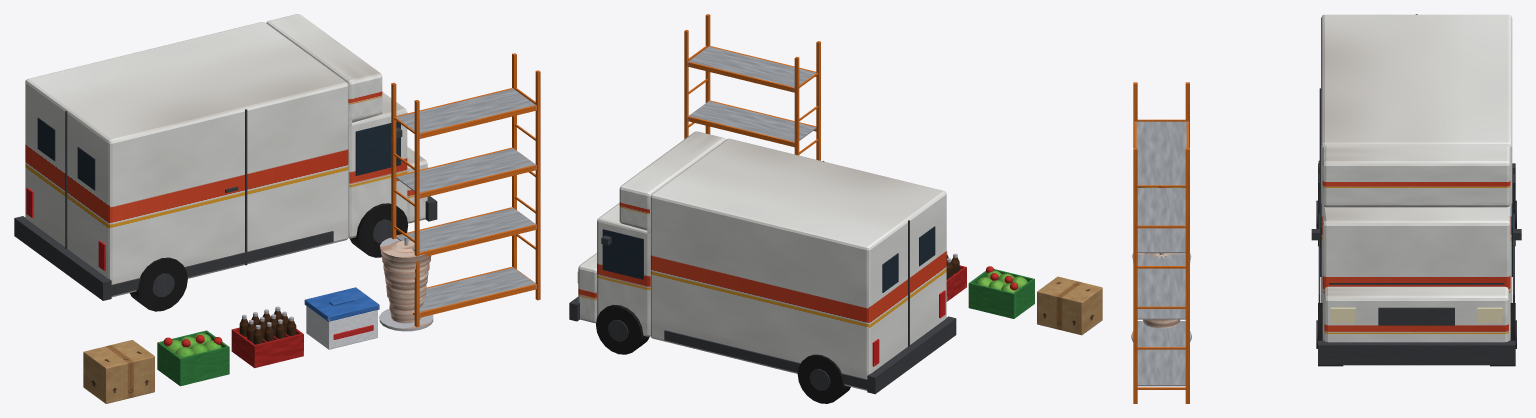
File: kebap_logistics.fbx
3 views of the same model, side by side, from view 1: azimuth 30°, elevation 25°; view 2: azimuth 150°, elevation 25°; view 3: azimuth 270°, elevation 25° (orthographic). The views are drawn at different scales.
Visible parts, largest first — view 1: Van_Body, Shelf, Van_Trim, Box_cardboard, Box_meat, MeatCone, Box_drink, Van_Tyres, Box_veg, Van_Glass; view 2: Van_Body, Shelf, Van_Trim, Box_cardboard, Van_Tyres, Van_Glass, Box_veg, Box_drink; view 3: Van_Body, Shelf, Van_Trim, Van_Lights, Van_Tyres, Van_Glass, MeatCone.
Part boxes in pixels (x1,y1,x2,y2): Van_Body: (25, 14, 427, 297); Shelf: (391, 53, 540, 327); Van_Trim: (14, 109, 437, 300); Box_cardboard: (83, 340, 154, 403); Box_meat: (304, 287, 379, 349); MeatCone: (379, 236, 433, 331); Box_drink: (231, 306, 303, 368); Van_Tyres: (129, 203, 408, 311); Box_veg: (157, 330, 229, 386); Van_Glass: (37, 117, 400, 190); Van_Body: (578, 131, 946, 390); Shelf: (684, 14, 820, 160); Van_Trim: (569, 161, 956, 394); Box_cardboard: (1037, 276, 1102, 335); Van_Tyres: (596, 304, 850, 403); Van_Glass: (602, 226, 935, 292); Box_veg: (968, 266, 1034, 318); Box_drink: (946, 251, 966, 301); Van_Body: (1321, 14, 1512, 342); Shelf: (1133, 82, 1189, 403); Van_Trim: (1311, 14, 1521, 365); Van_Lights: (1330, 307, 1502, 323); Van_Tyres: (1318, 183, 1515, 366); Van_Glass: (1320, 203, 1512, 284); MeatCone: (1131, 253, 1191, 341).
Size of the model in its own units: 1750 by 880 by 1224.
11 materials, 11 textured.
